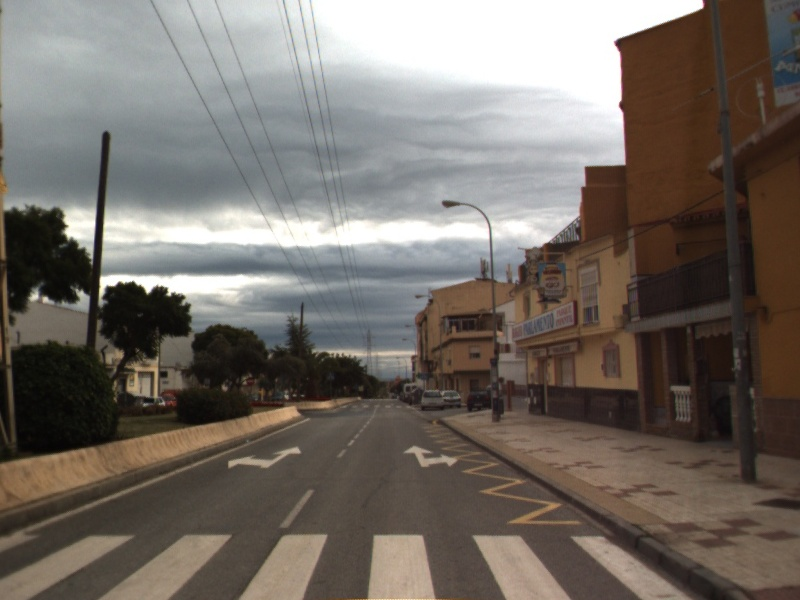STRAIGHT_LEFT: (226, 444, 304, 471)
STRAIGHT_RIGHT: (401, 443, 460, 469)
